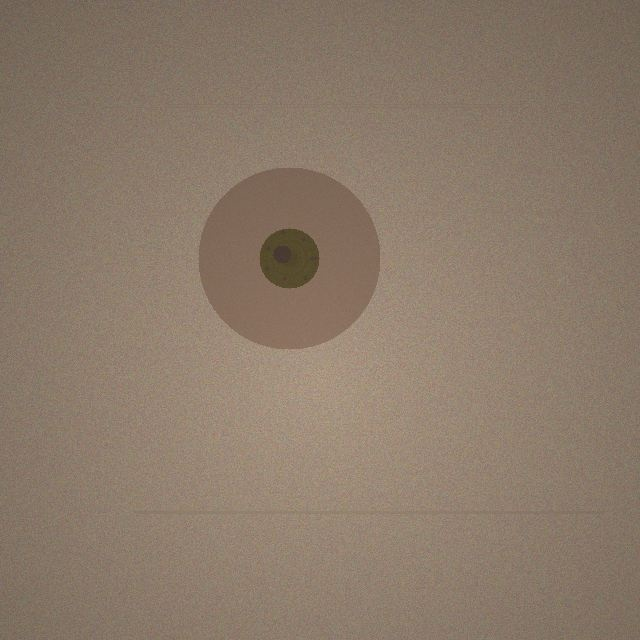cold_weld: (198, 167, 380, 349)
